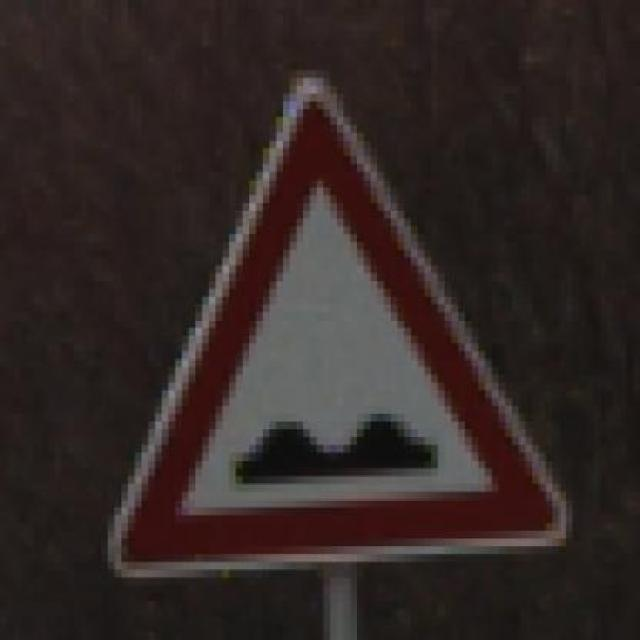Uneven Road: (74, 78, 586, 578)
